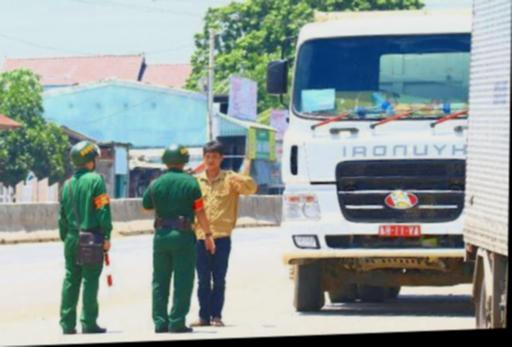License_Plate: (376, 222, 423, 239)
